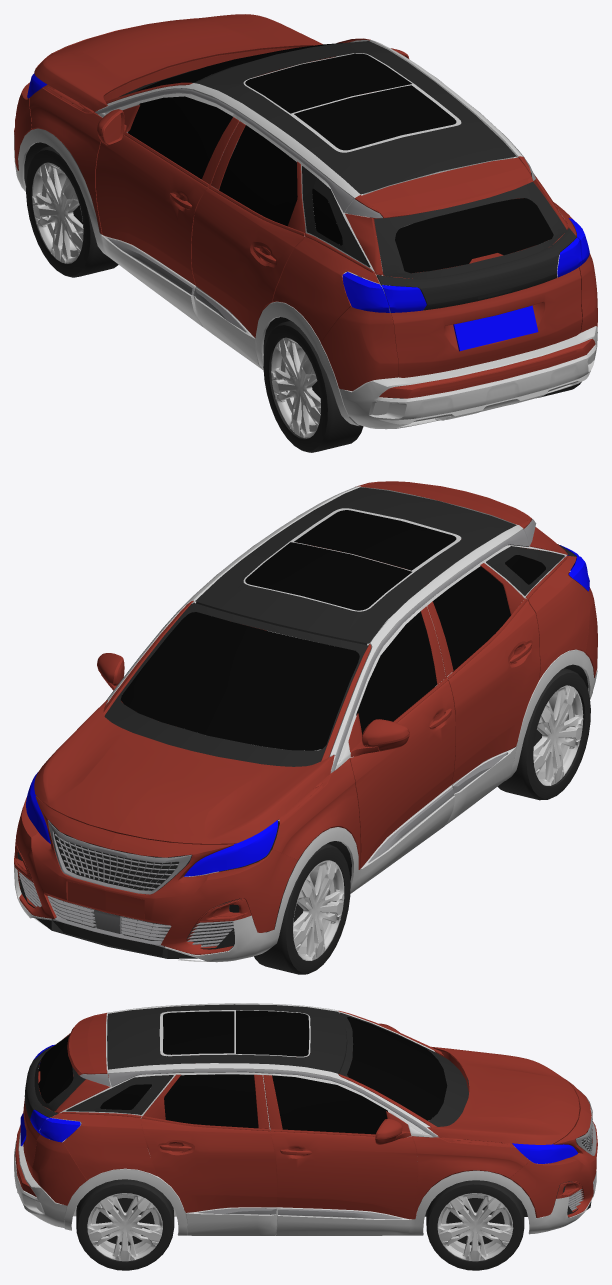
The model's file is suv.glb.
3 renders of one model, top to bottom at view 1: azimuth 30°, elevation 25°; view 2: azimuth 150°, elevation 25°; view 3: azimuth 270°, elevation 25°, orthographic. The views are drawn at different scales.
Parts seen in each view (by area): view 1: maincar2_suv_car, maincar2_suv_back_left, maincar2_suv_front_left, maincar2_suv_carlight_license; view 2: maincar2_suv_car, maincar2_suv_front_left, maincar2_suv_back_left, maincar2_suv_carlight_license; view 3: maincar2_suv_car, maincar2_suv_back_right, maincar2_suv_front_right, maincar2_suv_carlight_license.
Boxes of the visible parts, box(x1,y1,x2,y2) form: maincar2_suv_car: box(14, 14, 597, 429); maincar2_suv_back_left: box(263, 320, 363, 452); maincar2_suv_front_left: box(26, 144, 118, 277); maincar2_suv_carlight_license: box(27, 73, 589, 351); maincar2_suv_car: box(14, 481, 597, 962); maincar2_suv_front_left: box(254, 843, 350, 974); maincar2_suv_back_left: box(497, 668, 590, 800); maincar2_suv_carlight_license: box(26, 545, 589, 876); maincar2_suv_car: box(14, 1003, 597, 1235); maincar2_suv_back_right: box(76, 1179, 174, 1270); maincar2_suv_front_right: box(426, 1180, 524, 1270); maincar2_suv_carlight_license: box(20, 1044, 577, 1163).
Bounding box in the file's own units: 2.33 × 1.92 × 5.23.
